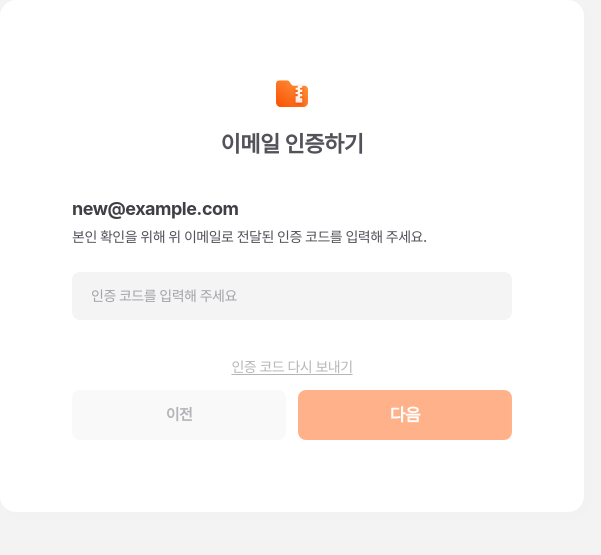
Test: SignupEmailVerificationForm › preserves verification success when the initial send fails later
Type "123456" into the field labelled "인증 코드" at x=292, y=296, box [91,285,493,307]
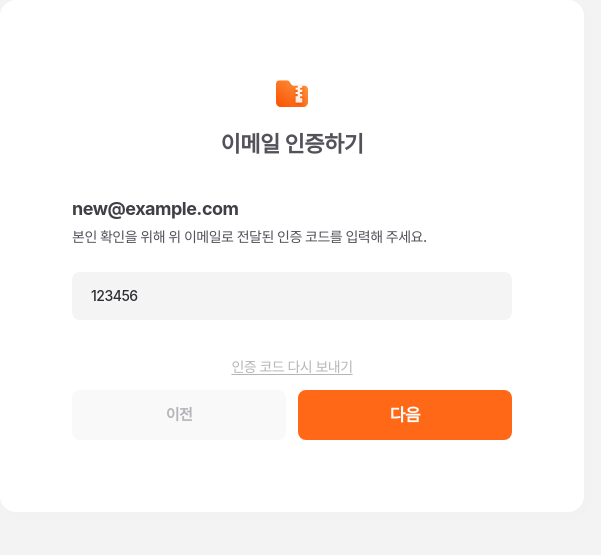
Click the button "다음" at x=405, y=415, box [298,390,512,440]
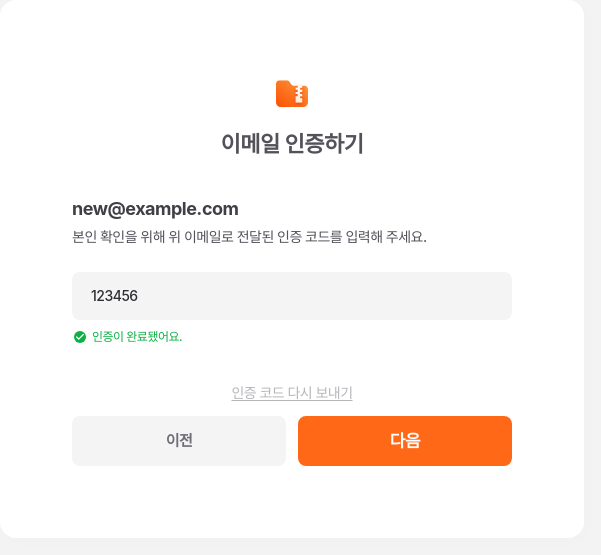
Expected: the message reads "인증이 완료됐어요.", [92,329,182,344]
